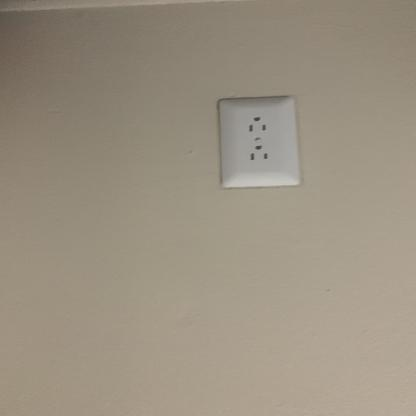OUTLET: (219, 94, 296, 188)
